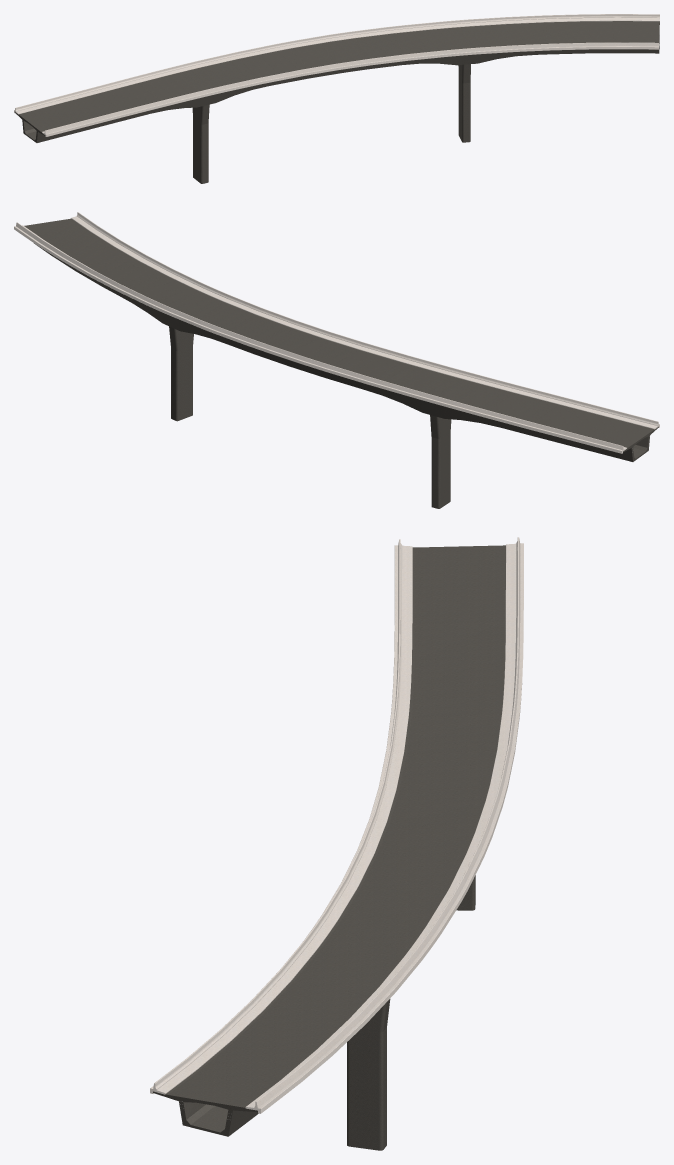
The picture shows the model from 3 angles, top to bottom: view 1: azimuth 30°, elevation 25°; view 2: azimuth 150°, elevation 25°; view 3: azimuth 270°, elevation 25°; orthographic projection. The views are drawn at different scales.
Size of the model in its own units: 153668 by 27219 by 42853.
Materials: 3 (2 with a texture image).
